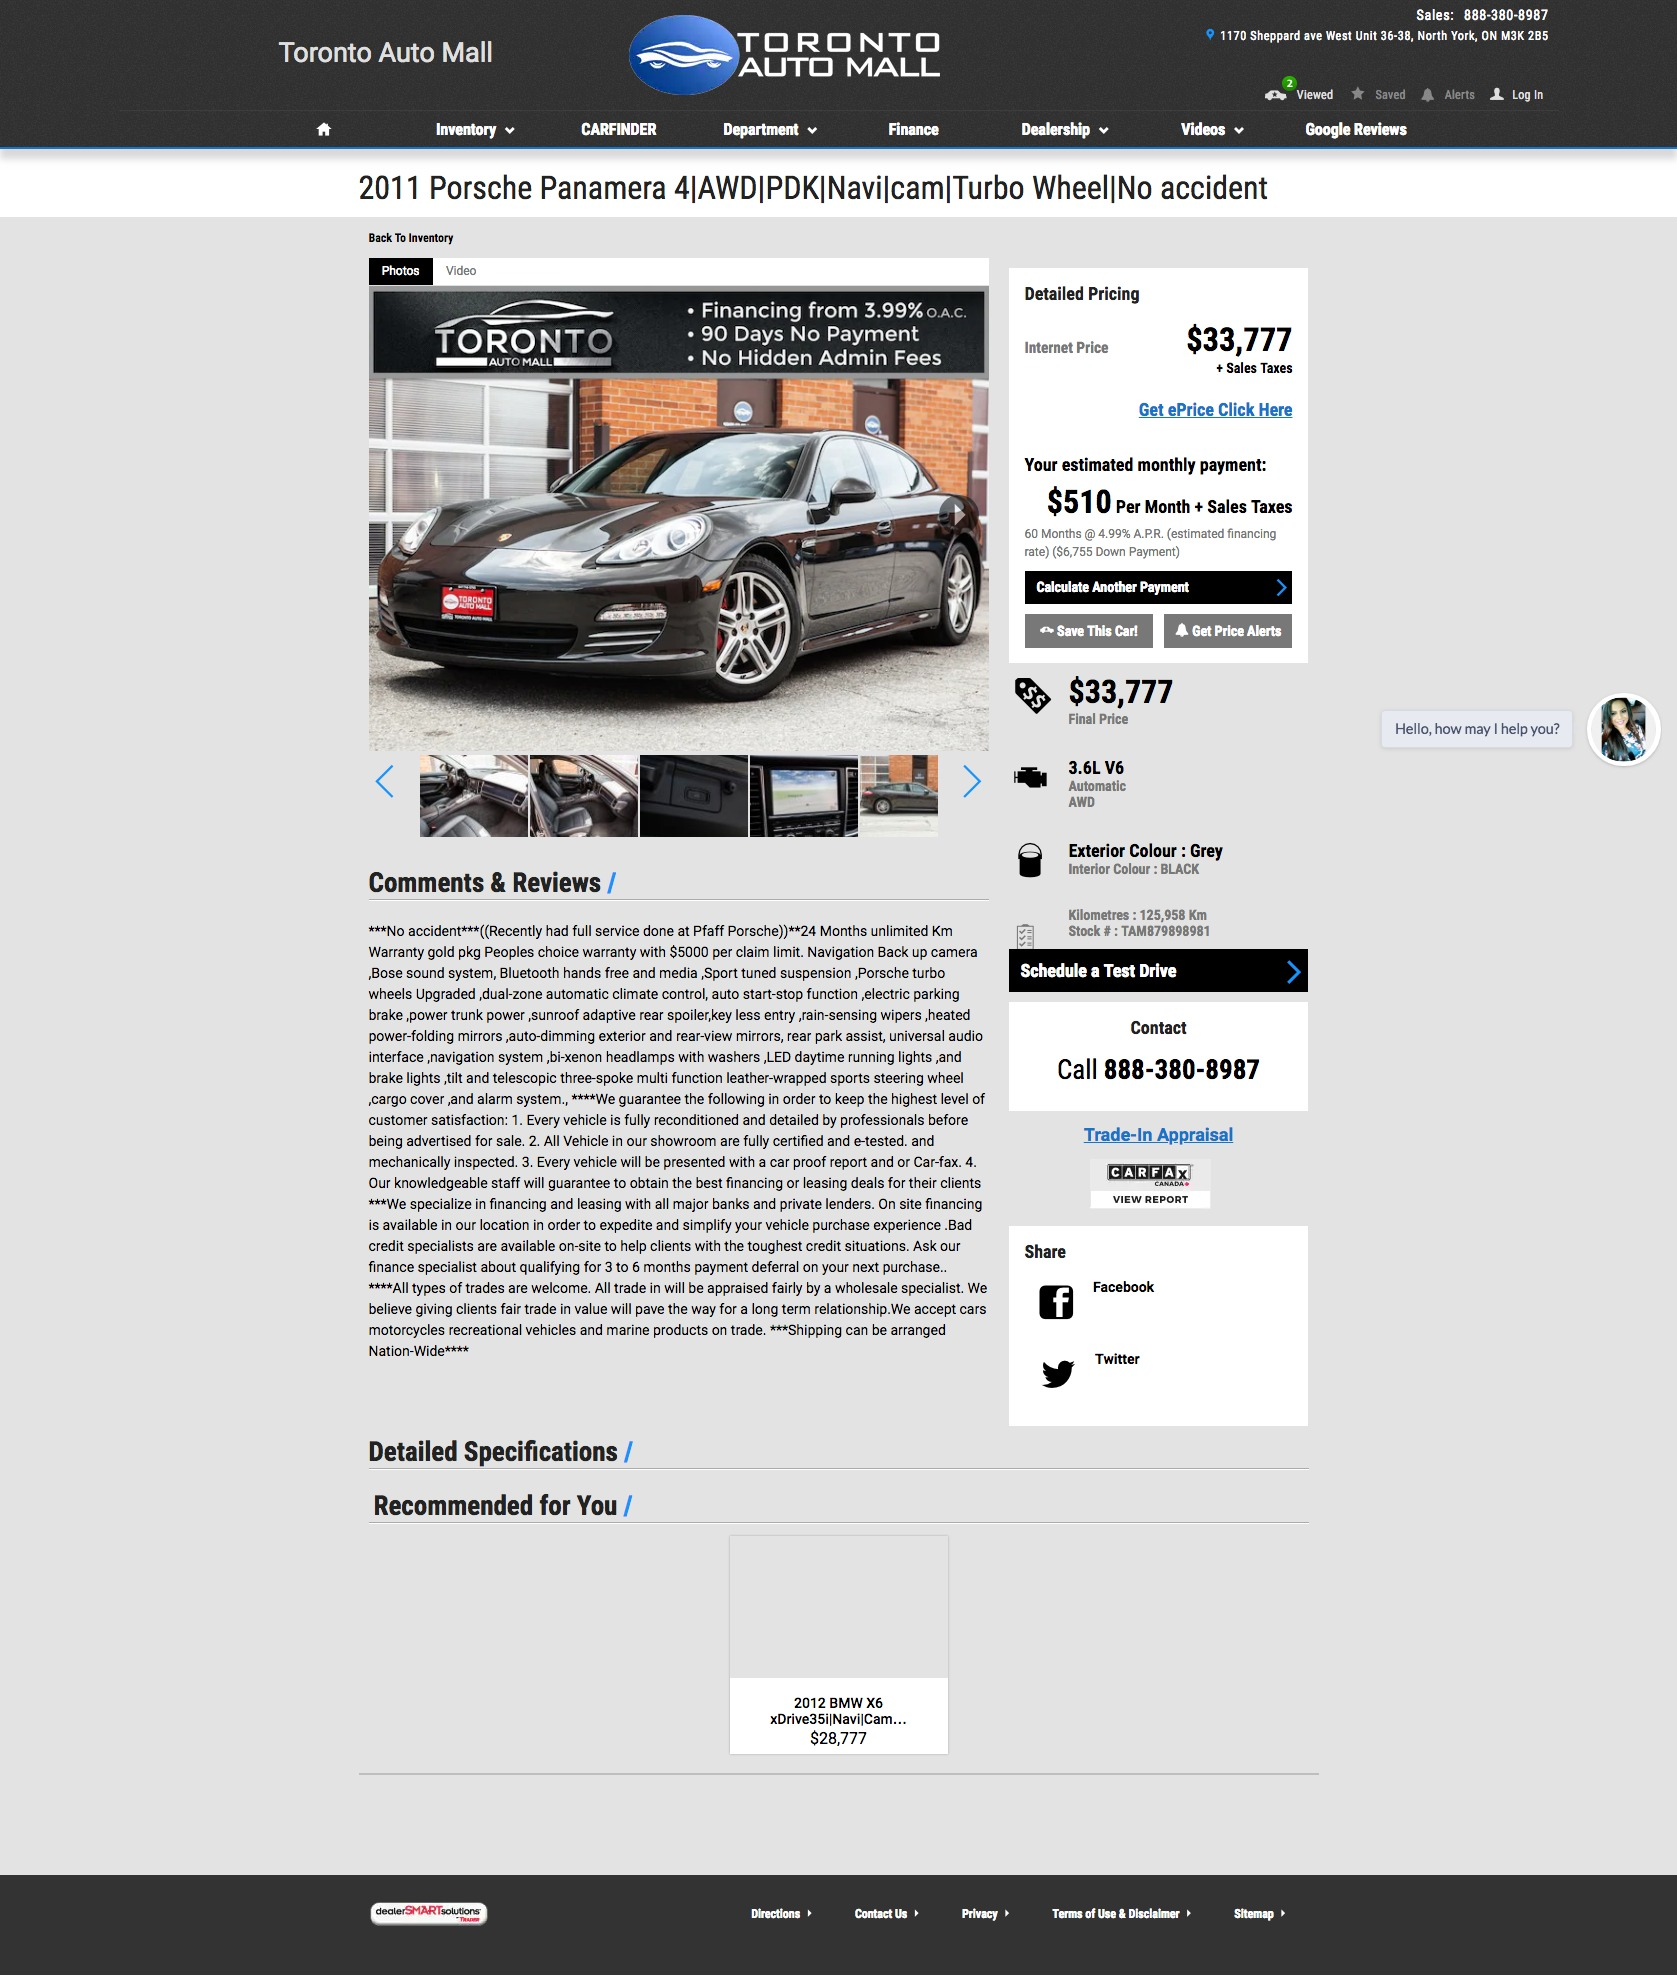car: (963, 764, 982, 800)
